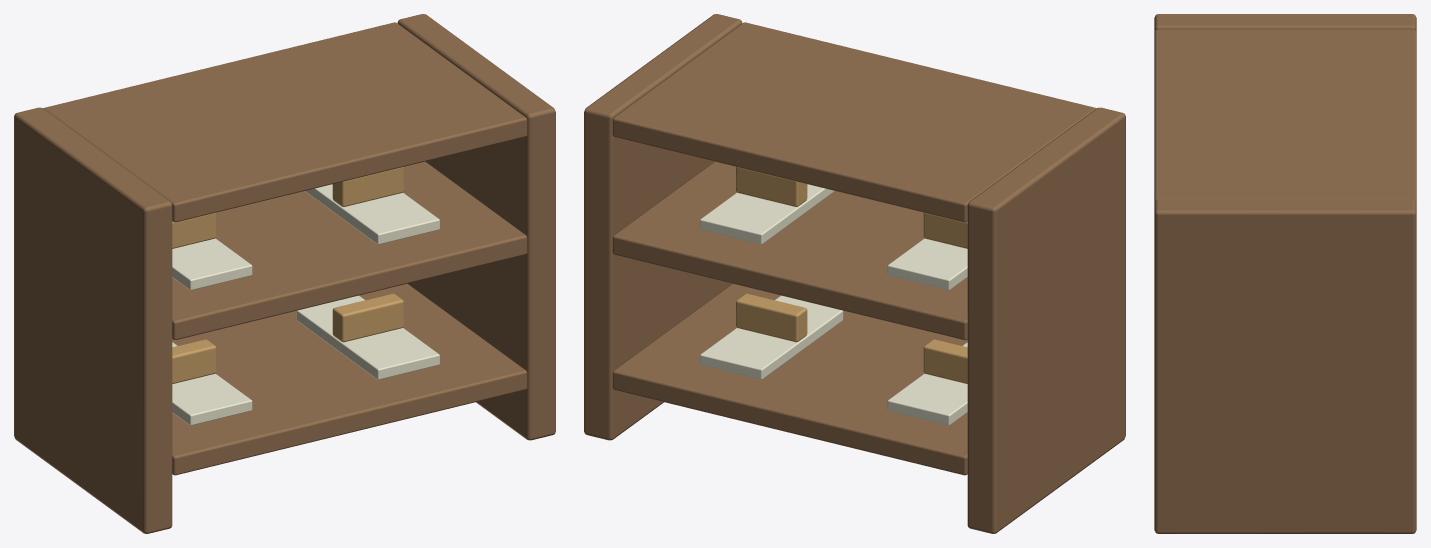
File: fantasy-bathhouse-and-thermal-sanctuary-fantasy-bathho-be834774__29460.glb
3 views of the same model, side by side, from view 1: azimuth 30°, elevation 25°; view 2: azimuth 150°, elevation 25°; view 3: azimuth 270°, elevation 25° (orthographic).
Visible parts, largest first — view 1: fantasy-bathhouse-and-thermal-sanctuary-sandal-rack; view 2: fantasy-bathhouse-and-thermal-sanctuary-sandal-rack; view 3: fantasy-bathhouse-and-thermal-sanctuary-sandal-rack.
Boxes of the visible parts, box(x1,y1,x2,y2) form: fantasy-bathhouse-and-thermal-sanctuary-sandal-rack: box(14, 14, 555, 533); fantasy-bathhouse-and-thermal-sanctuary-sandal-rack: box(584, 14, 1125, 533); fantasy-bathhouse-and-thermal-sanctuary-sandal-rack: box(1154, 14, 1416, 533).
Bounding box in the file's own units: 0.99 × 0.75 × 0.5501.
